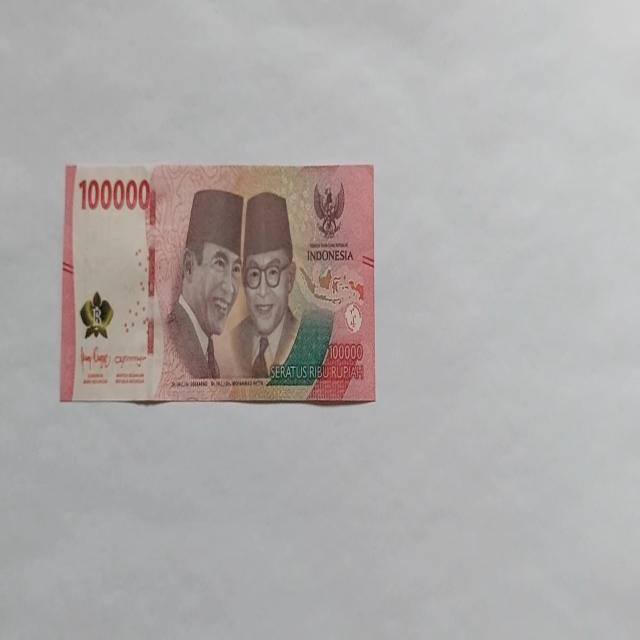seratus ribu rupiah: (60, 161, 376, 405)
